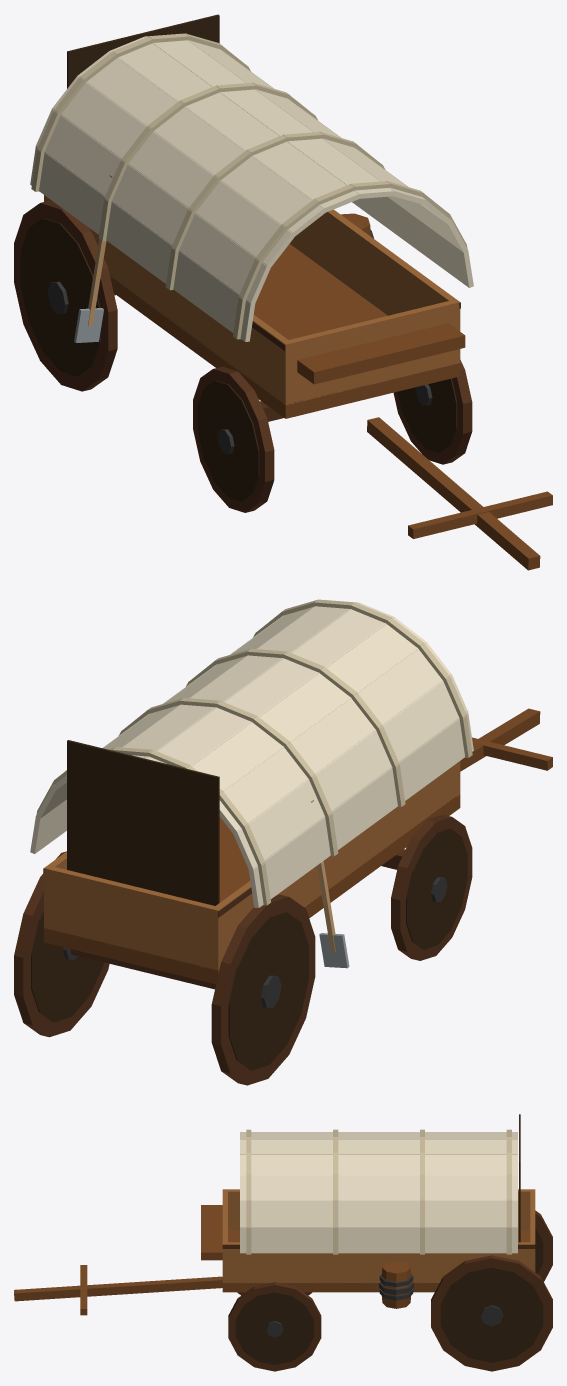
File: Prop_CoveredWagon.fbx
3 views of the same model, one above another, from view 1: azimuth 30°, elevation 25°; view 2: azimuth 150°, elevation 25°; view 3: azimuth 270°, elevation 25° (orthographic). The views are drawn at different scales.
Parts seen in each view (by area): view 1: Prop_CoveredWagon; view 2: Prop_CoveredWagon; view 3: Prop_CoveredWagon.
Part boxes in pixels (x1,y1,x2,y2): Prop_CoveredWagon: [14, 14, 552, 570]; Prop_CoveredWagon: [14, 599, 552, 1085]; Prop_CoveredWagon: [14, 1114, 552, 1371].
Bounding box in the file's own units: 2.33 × 2.56 × 6.21.
